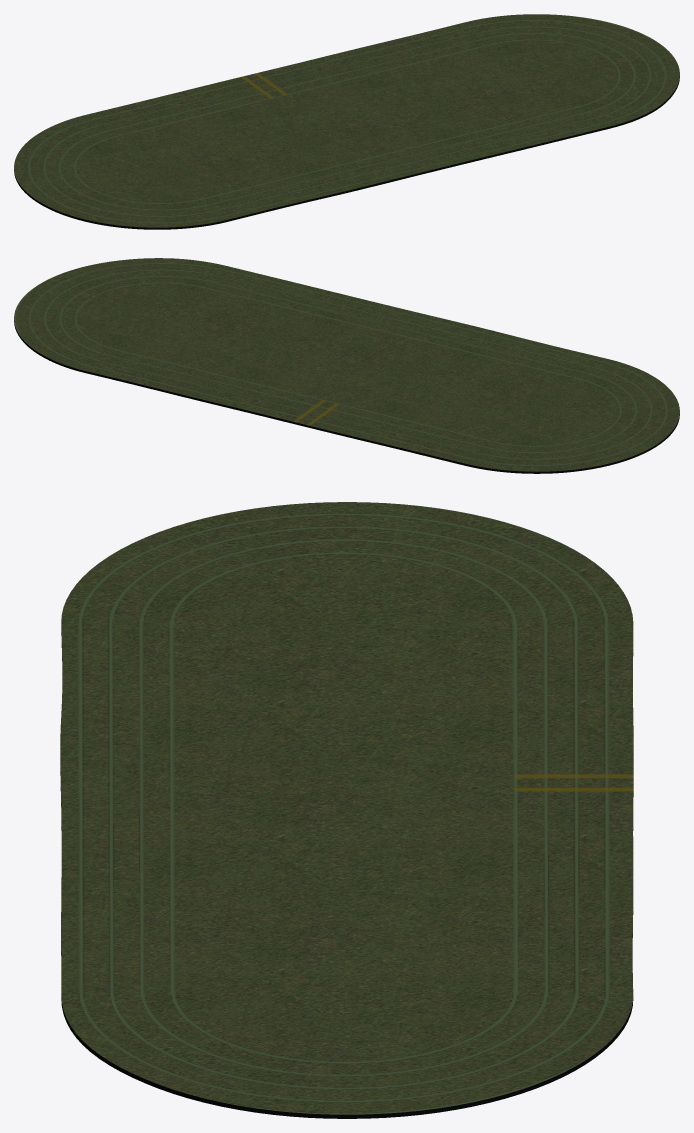
Rendered from Truck3d_d1.glb.
3 renders of one model, top to bottom at view 1: azimuth 30°, elevation 25°; view 2: azimuth 150°, elevation 25°; view 3: azimuth 270°, elevation 25°, orthographic. The views are drawn at different scales.
Parts seen in each view (by area): view 1: path133; view 2: path133; view 3: path133.
Boxes of the visible parts, box(x1,y1,x2,y2) form: path133: box(14, 14, 679, 229); path133: box(14, 258, 679, 473); path133: box(60, 502, 633, 1118).
Bounding box in the file's own units: 5.43 × 0.0175 × 2.15.
Materials: 1 (1 with a texture image).
